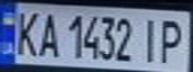1: (63, 11, 84, 60)
2: (115, 14, 139, 63)
3: (97, 12, 118, 61)
4: (78, 11, 100, 61)
A: (33, 9, 63, 58)
I: (136, 15, 163, 64)
K: (9, 7, 45, 57)
P: (154, 15, 190, 64)
